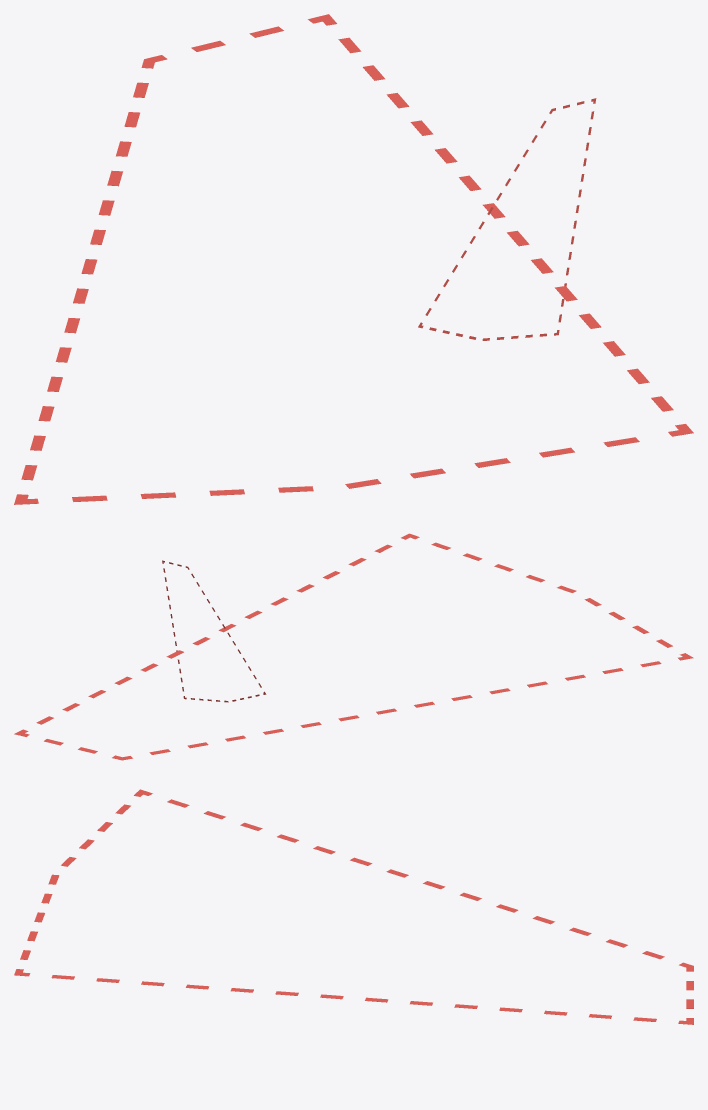
File: agora_line.glb
3 views of the same model, one above another, from view 1: azimuth 30°, elevation 25°; view 2: azimuth 150°, elevation 25°; view 3: azimuth 270°, elevation 25° (orthographic). The views are drawn at different scales.
Visible parts, largest first — view 1: コレクション 3.001; view 2: コレクション 3.001; view 3: コレクション 3.001.
Boxes of the visible parts, x1=… form: コレクション 3.001: x1=14, y1=14, x2=693, y2=504; コレクション 3.001: x1=14, y1=533, x2=693, y2=760; コレクション 3.001: x1=14, y1=789, x2=693, y2=1024.
Size of the model in its own units: 0.4853 by 0.1417 by 0.5865.
